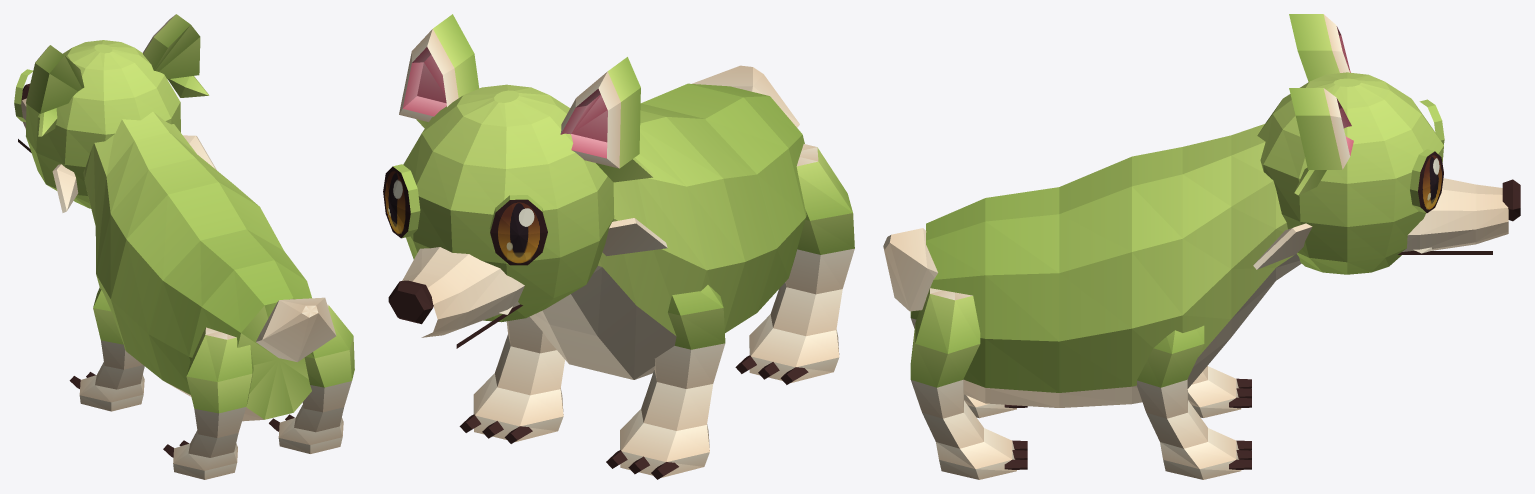
Rendered from Vinefang_S1_FacetedReview.glb.
The picture shows the model from 3 angles, left to right: view 1: azimuth 30°, elevation 25°; view 2: azimuth 150°, elevation 25°; view 3: azimuth 270°, elevation 25°; orthographic projection. The views are drawn at different scales.
Parts seen in each view (by area): view 1: Body, Head, LeftBackLeg, RightBackLeg, LeftFrontLeg, Tail, RightEar, LeftEar, LeftCheekFur, RightEarBaseFur, LeftEye, LeftEarBaseFur; view 2: Body, Head, LeftBackLeg, LeftFrontLeg, RightFrontLeg, Muzzle, LeftEar, RightEar, LeftEye, RightEye, LeftCheekFur, Tail (+2 smaller); view 3: Body, Head, RightBackLeg, RightFrontLeg, Muzzle, RightEar, Tail, LeftEar, LeftFrontLeg, RightEye, RightCheekFur, LeftBackLeg.
Boxes of the visible parts, x1,y1,x2,y2 form: Body: (83, 111, 311, 421); Head: (26, 40, 180, 208); LeftBackLeg: (173, 327, 253, 479); RightBackLeg: (278, 304, 354, 453); LeftFrontLeg: (79, 288, 144, 411); Tail: (256, 297, 336, 361); RightEar: (143, 14, 200, 79); LeftEar: (26, 45, 84, 113); LeftCheekFur: (52, 164, 78, 212); RightEarBaseFur: (168, 76, 209, 97); LeftEye: (14, 69, 32, 122); LeftEarBaseFur: (38, 108, 57, 136); Body: (530, 83, 806, 379); Head: (403, 84, 614, 322); LeftBackLeg: (749, 144, 854, 382); LeftFrontLeg: (620, 285, 725, 477); RightFrontLeg: (473, 316, 564, 441); Muzzle: (402, 247, 524, 337); LeftEar: (560, 57, 640, 168); RightEar: (399, 14, 479, 122); LeftEye: (489, 195, 547, 265); RightEye: (383, 164, 420, 238); LeftCheekFur: (602, 218, 667, 256); Tail: (692, 65, 799, 127); Body: (926, 124, 1301, 407); Head: (1257, 72, 1443, 274); RightBackLeg: (910, 288, 1016, 479); RightFrontLeg: (1137, 325, 1241, 479); Muzzle: (1402, 178, 1508, 251); RightEar: (1289, 88, 1353, 169); Tail: (883, 228, 937, 311); LeftEar: (1289, 14, 1350, 81); LeftFrontLeg: (1187, 365, 1241, 417); RightEye: (1410, 149, 1443, 213); RightCheekFur: (1253, 223, 1312, 269); LeftBackLeg: (910, 310, 1016, 418).
Size of the model in its own units: 2.06 by 3.65 by 5.54.
1 material, 1 textured.
